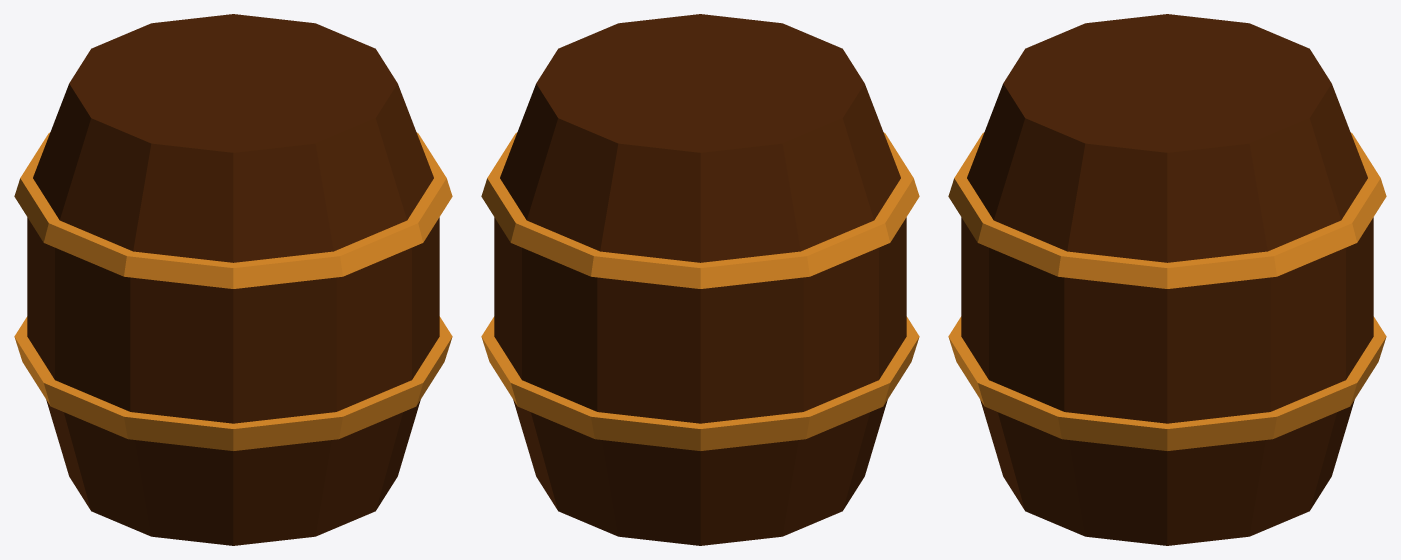
File: barrel.fbx
3 views of the same model, side by side, from view 1: azimuth 30°, elevation 25°; view 2: azimuth 150°, elevation 25°; view 3: azimuth 270°, elevation 25° (orthographic).
Parts seen in each view (by area): view 1: barrel; view 2: barrel; view 3: barrel.
Boxes of the visible parts, x1,y1,x2,y2 form: barrel: (14, 14, 452, 545); barrel: (481, 14, 919, 545); barrel: (948, 14, 1386, 545).
Size of the model in its own units: 112 by 111 by 112.
